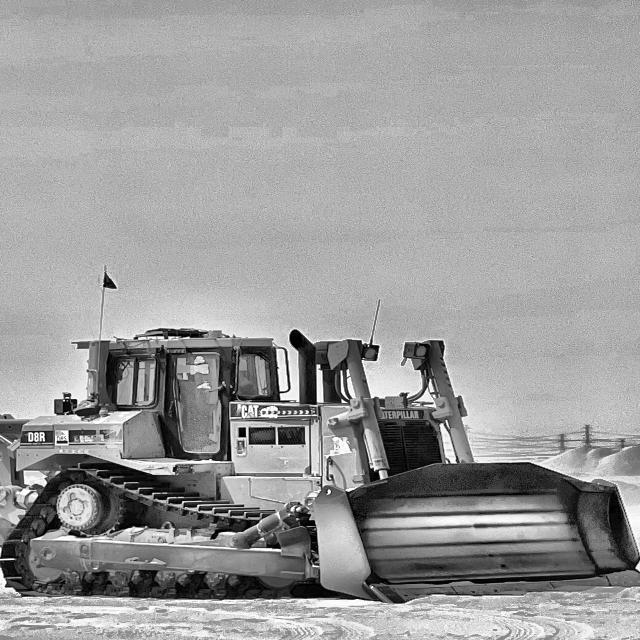buldozerpayloadergrader: (0, 309, 640, 612)
